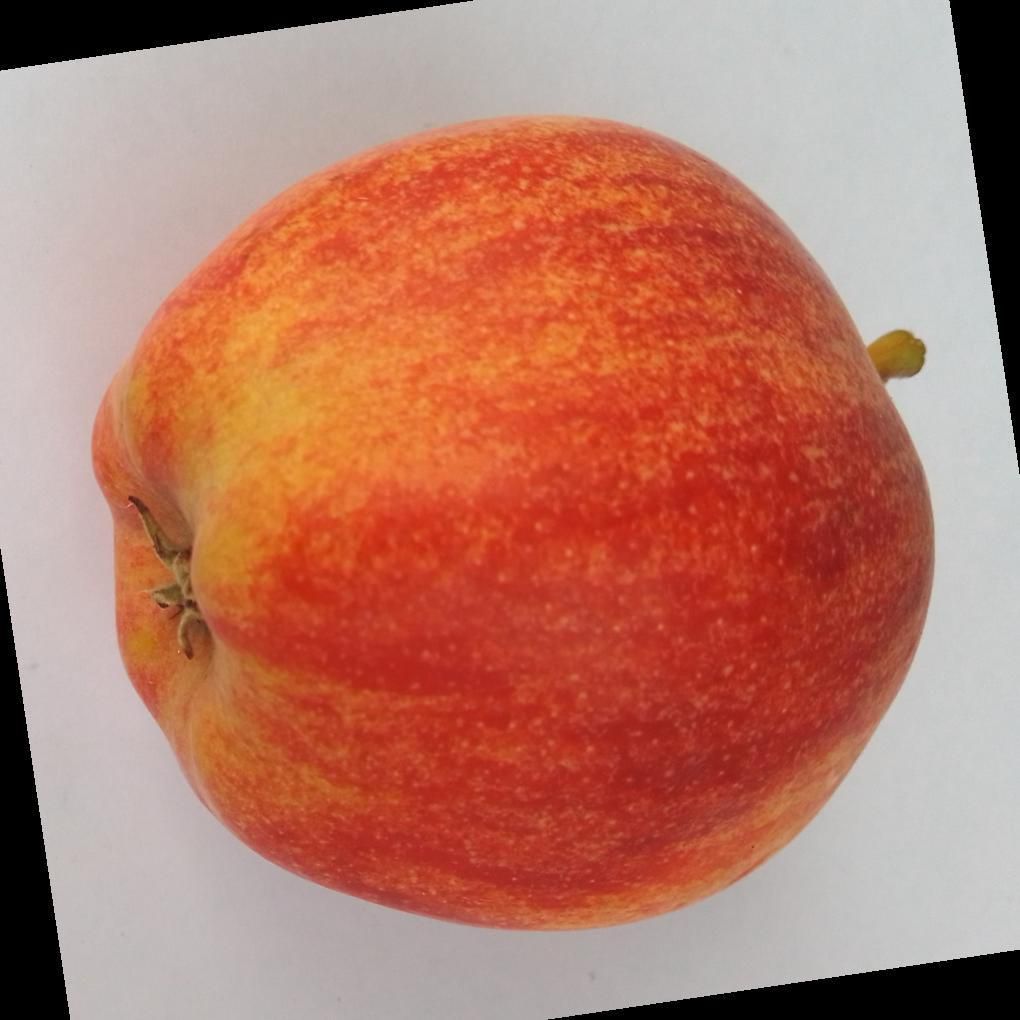FreshGuava: (88, 116, 937, 937)
